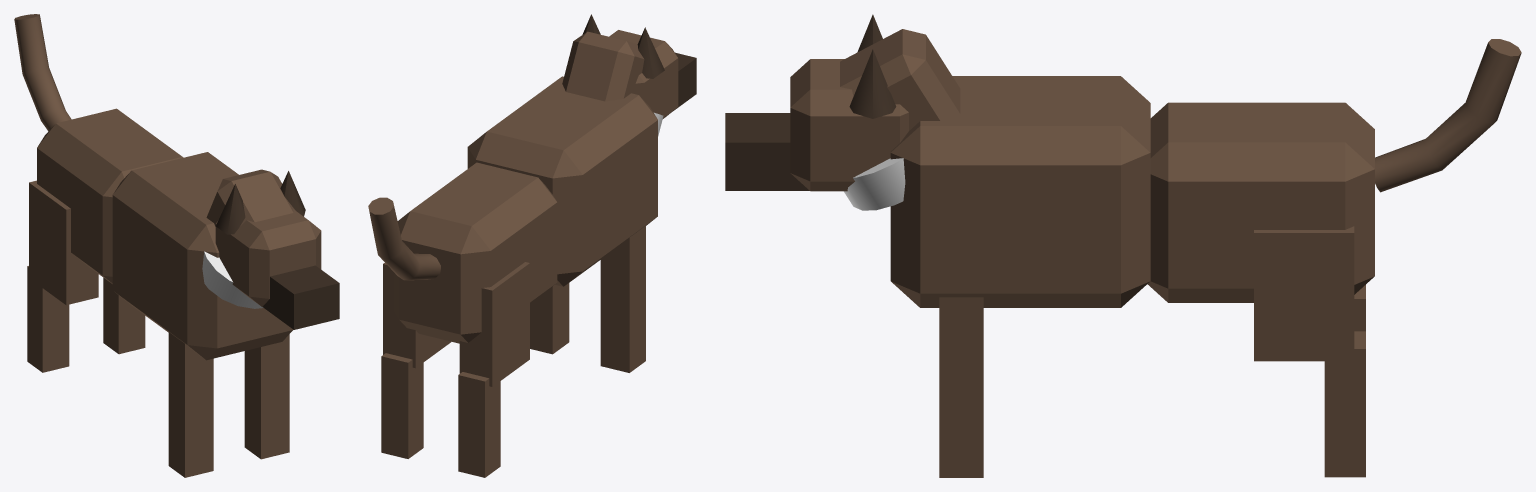
3 renders of one model, left to right at view 1: azimuth 30°, elevation 25°; view 2: azimuth 150°, elevation 25°; view 3: azimuth 270°, elevation 25°, orthographic. The views are drawn at different scales.
Parts seen in each view (by area): view 1: raider_body_hound; view 2: raider_body_hound; view 3: raider_body_hound.
Boxes of the visible parts, bbox=[...] form: raider_body_hound: bbox=[14, 14, 339, 477]; raider_body_hound: bbox=[368, 14, 696, 477]; raider_body_hound: bbox=[725, 14, 1521, 477].
Bounding box in the file's own units: 0.3 × 0.77 × 1.35.
